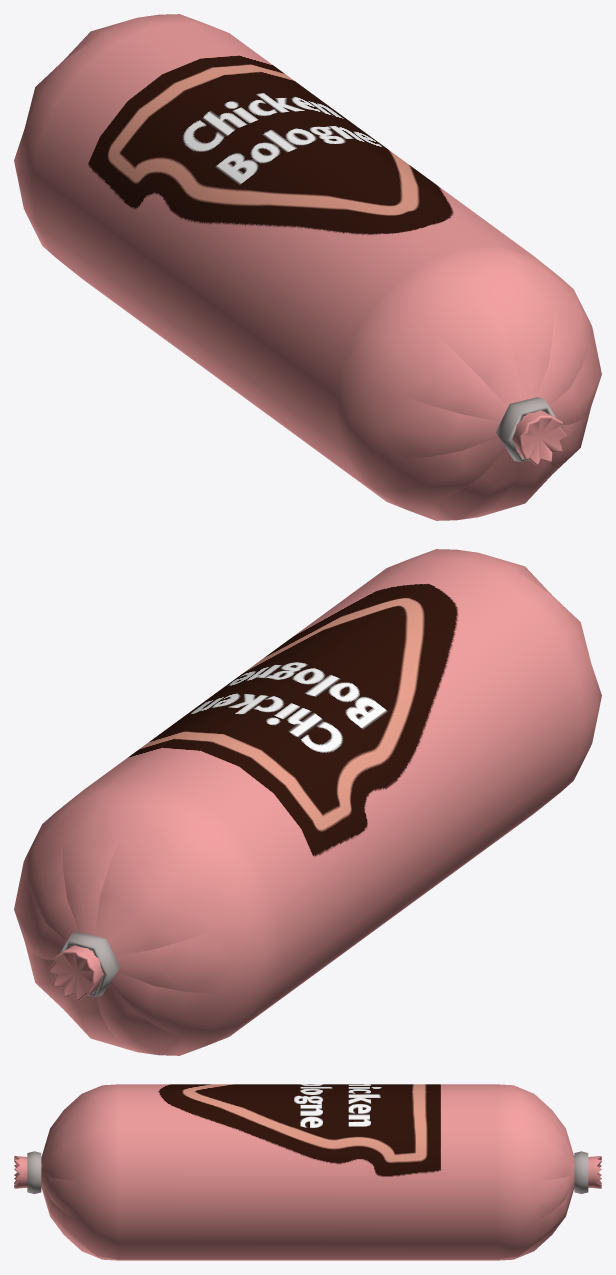
Rendered from Bologne.fbx.
3 renders of one model, top to bottom at view 1: azimuth 30°, elevation 25°; view 2: azimuth 150°, elevation 25°; view 3: azimuth 270°, elevation 25°, orthographic. The views are drawn at different scales.
Parts seen in each view (by area): view 1: Bologne; view 2: Bologne; view 3: Bologne.
Part boxes in pixels (x1,y1,x2,y2): Bologne: [14, 14, 601, 520]; Bologne: [14, 549, 601, 1055]; Bologne: [14, 1084, 601, 1260].
Size of the model in its own units: 0.6389 by 0.6389 by 2.11.
1 material, 1 textured.
